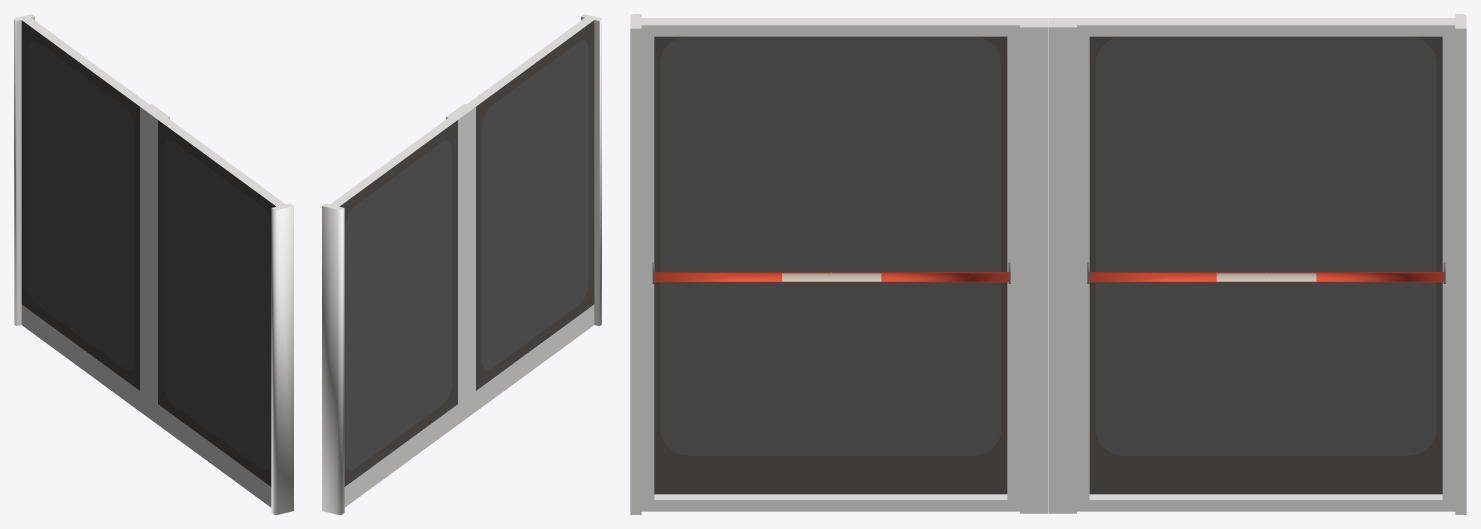
File: 스크린도어.fbx
The picture shows the model from 3 angles, left to right: view 1: azimuth 30°, elevation 25°; view 2: azimuth 150°, elevation 25°; view 3: azimuth 270°, elevation 25°; orthographic projection. The views are drawn at different scales.
Visible parts, largest first — view 1: 스크린도어왼쪽, 스크린도어오른쪽; view 2: 스크린도어오른쪽, 스크린도어왼쪽; view 3: 스크린도어왼쪽, 스크린도어오른쪽, 왼쪽바, 오른쪽바.
Part boxes in pixels (x1,y1,x2,y2): 스크린도어왼쪽: (149, 110, 293, 514); 스크린도어오른쪽: (14, 14, 160, 417); 스크린도어오른쪽: (322, 110, 466, 514); 스크린도어왼쪽: (455, 14, 601, 417); 스크린도어왼쪽: (630, 14, 1048, 514); 스크린도어오른쪽: (1048, 14, 1466, 514); 왼쪽바: (652, 262, 1010, 283); 오른쪽바: (1087, 262, 1445, 283).
Size of the model in its own units: 14.17 by 205 by 320.
